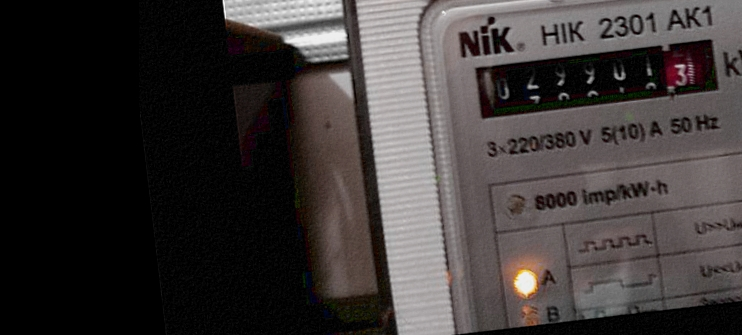0: (493, 73, 514, 102), (611, 54, 630, 84)
1: (641, 49, 658, 79)
2: (522, 64, 543, 93)
3: (672, 60, 692, 88)
9: (552, 61, 571, 89), (583, 58, 599, 87)
screen: (466, 28, 733, 130)
